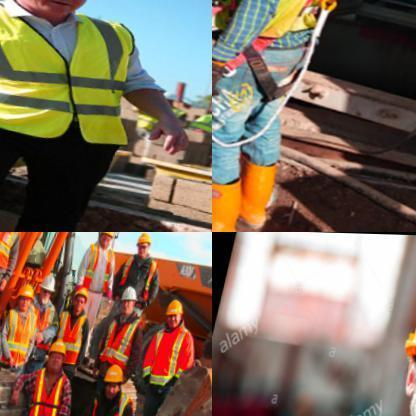vest: (0, 0, 168, 153), (212, 0, 366, 68), (146, 323, 196, 385), (52, 302, 95, 365), (0, 303, 42, 367), (30, 363, 76, 415), (104, 307, 145, 365), (82, 239, 121, 290), (120, 251, 161, 298), (88, 382, 140, 415), (32, 296, 63, 337), (0, 232, 26, 271)
